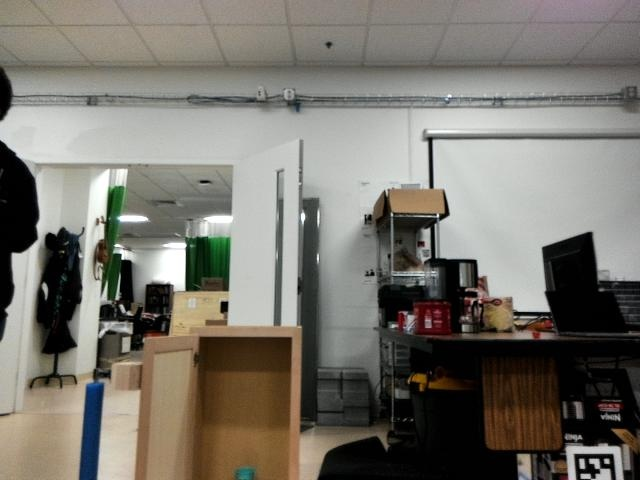coffee_cup: (233, 464, 256, 480)
noodle_handle: (79, 374, 105, 480)
